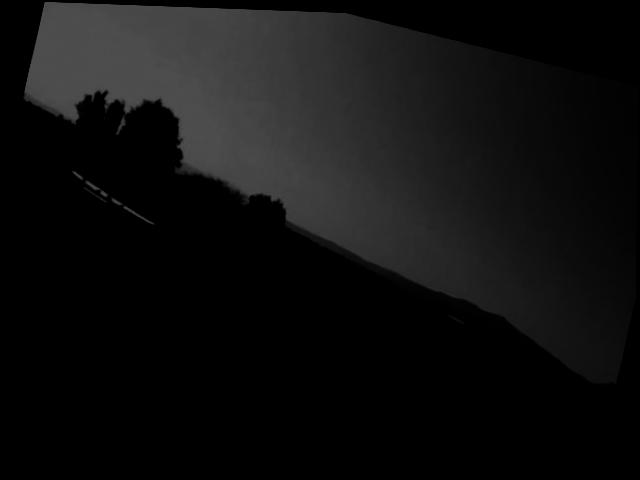hedef: (55, 158, 175, 239)
